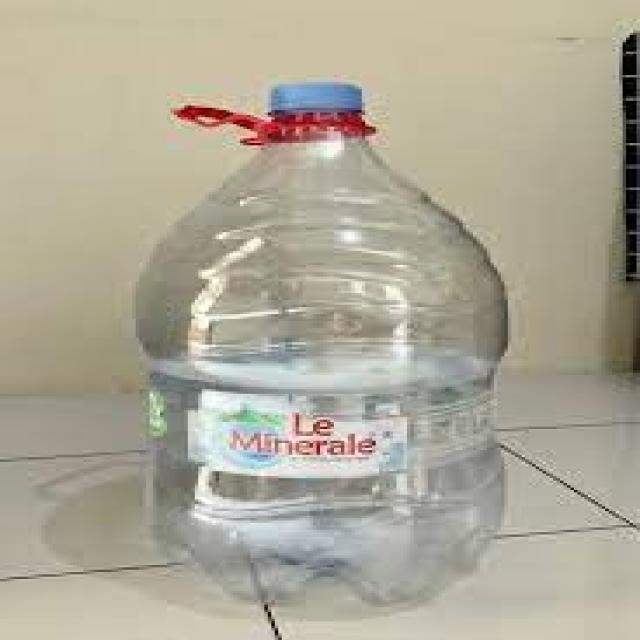Galon: (129, 78, 511, 610)
